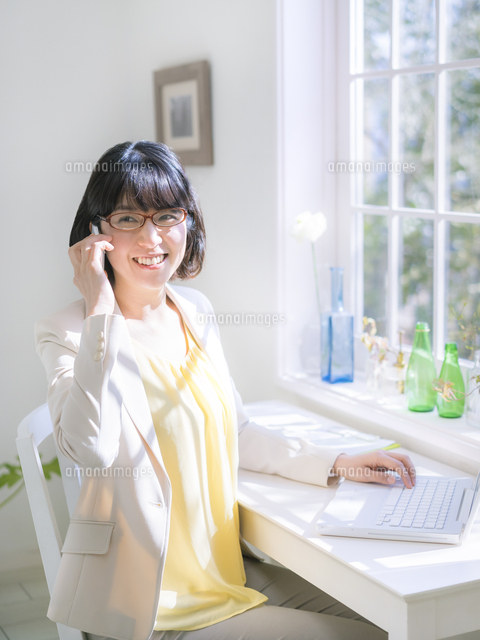phone: (68, 221, 118, 287)
talk: (66, 202, 191, 310)
